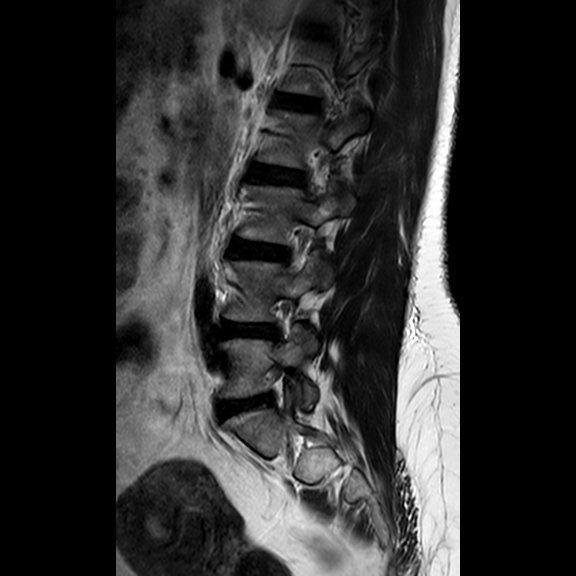LFS0: (272, 210, 319, 282), (257, 289, 309, 346)
